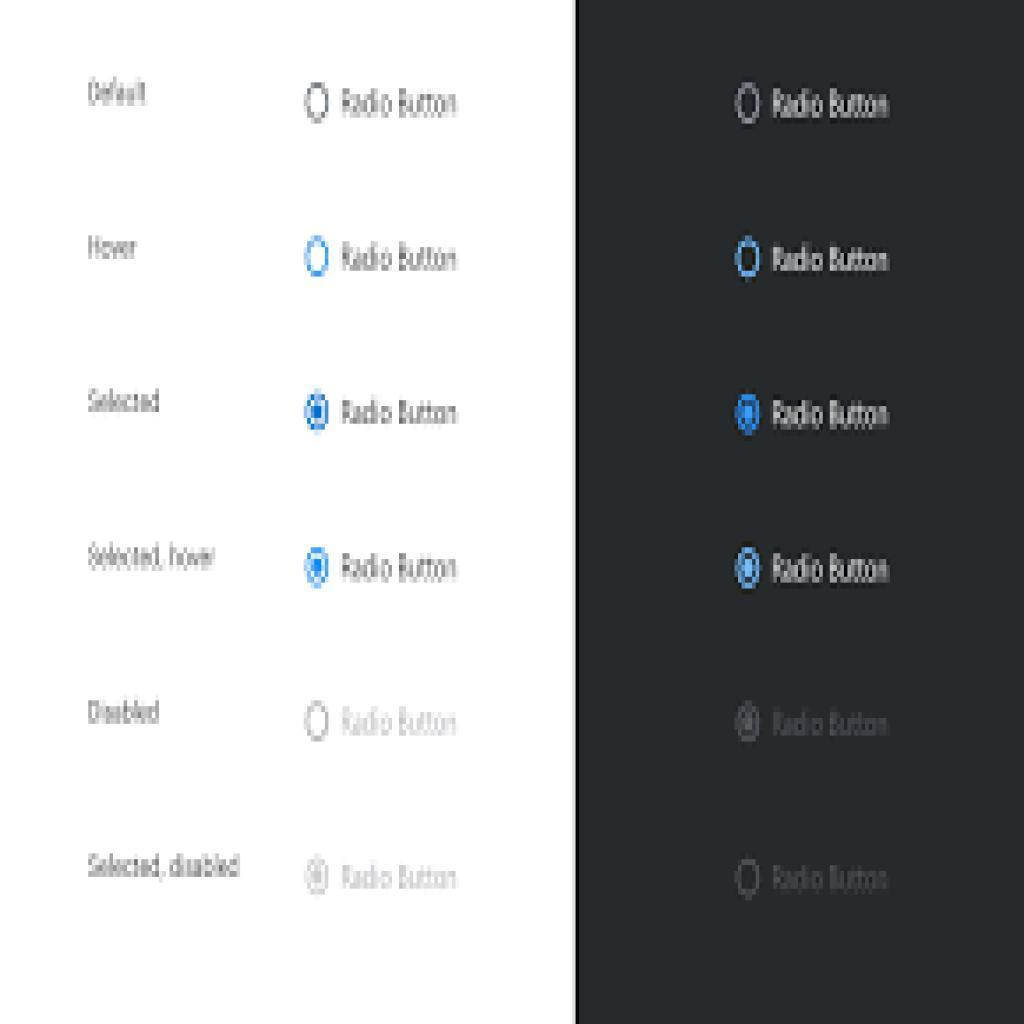label: (85, 538, 218, 576), (84, 851, 244, 882), (768, 860, 898, 898), (771, 87, 897, 126), (768, 397, 892, 436), (770, 551, 894, 588), (341, 85, 461, 123), (340, 237, 460, 275), (340, 861, 464, 897), (341, 705, 460, 742), (772, 705, 894, 741), (338, 395, 459, 430), (768, 244, 892, 277), (340, 552, 460, 586), (87, 382, 164, 423), (85, 696, 158, 732), (84, 224, 141, 268), (88, 77, 150, 110)
radio: (733, 389, 766, 440), (302, 385, 332, 434), (734, 237, 765, 284), (302, 698, 330, 745), (735, 81, 762, 128), (304, 81, 332, 126), (305, 234, 331, 282), (735, 703, 763, 745), (737, 546, 763, 590), (305, 548, 330, 591), (305, 854, 330, 896), (738, 860, 763, 900)
